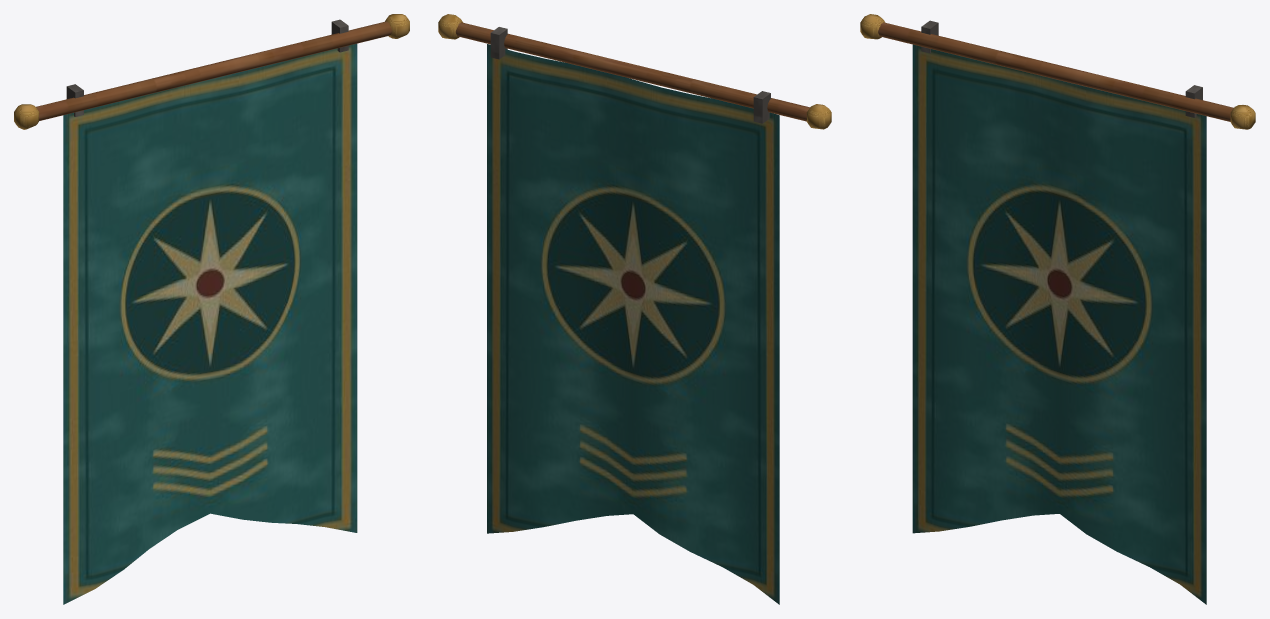
File: tapestry.lod1.glb
3 views of the same model, side by side, from view 1: azimuth 30°, elevation 25°; view 2: azimuth 150°, elevation 25°; view 3: azimuth 330°, elevation 25° (orthographic).
Visible parts, largest first — view 1: Tapestry_tapestry, Tapestry_oak, Tapestry_brass, Tapestry_iron; view 2: Tapestry_tapestry, Tapestry_oak, Tapestry_brass, Tapestry_iron; view 3: Tapestry_tapestry, Tapestry_oak, Tapestry_brass, Tapestry_iron.
Part boxes in pixels (<box>): Tapestry_tapestry: <box>63,43,357,604</box>; Tapestry_oak: <box>36,21,392,120</box>; Tapestry_brass: <box>14,14,409,129</box>; Tapestry_iron: <box>66,19,348,116</box>; Tapestry_tapestry: <box>487,44,779,604</box>; Tapestry_oak: <box>456,22,809,121</box>; Tapestry_brass: <box>438,14,831,129</box>; Tapestry_iron: <box>490,27,770,123</box>; Tapestry_tapestry: <box>912,44,1206,604</box>; Tapestry_oak: <box>878,22,1233,121</box>; Tapestry_brass: <box>860,14,1255,129</box>; Tapestry_iron: <box>921,20,1202,117</box>.
Size of the model in its own units: 1.33 by 1.66 by 0.087.
Materials: 4 (4 with a texture image).
